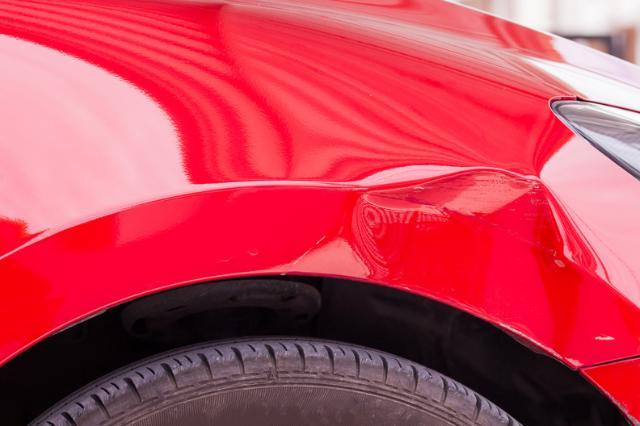Fender: (282, 129, 639, 366)
